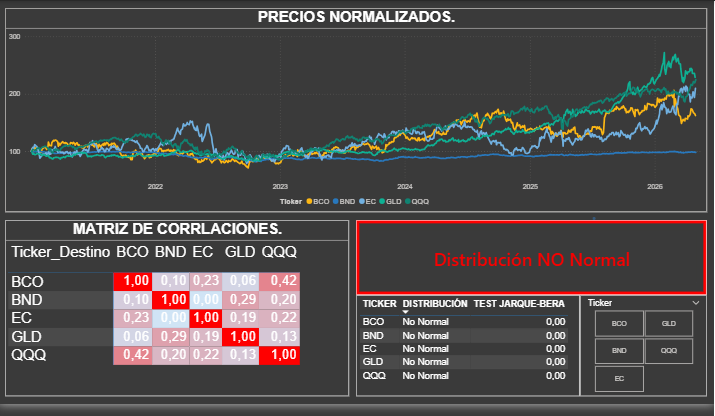

What the dashboard file says about the page in this screenshot:
{"tool":"powerbi","page":{"name":"CONTROL DE CALIDAD DE DATOS.","canvas":[1280,720],"ordinal":0},"visuals":[{"type":"lineChart","title":"PRECIOS NORMALIZADOS.","fields":{"Category":["Fact_Precios.Date"],"Y":["DAX_MEDIDAS.Precio_Indexado"],"Series":["Dim_Activos.Ticker"]},"box":[12.5,12.5,1255,364.7],"z":0},{"type":"tableEx","fields":{"Values":["Tab_Diagnostico_JB.Ticker","Tab_Diagnostico_JB.Distribucion","Sum(Tab_Diagnostico_JB.JB_PValue)"]},"box":[640,525.6,400.4,180.6],"z":1000,"group":"g1"},{"type":"cardVisual","fields":{"Data":["DAX_MEDIDAS.Estado_Normalidad"]},"box":[640,391.5,627.5,134.1],"z":2000,"group":"g1"},{"type":"pivotTable","title":"MATRIZ DE CORRLACIONES.","fields":{"Rows":["Matriz_Correlacion_Larga.Ticker_Destino"],"Columns":["Matriz_Correlacion_Larga.Ticker_Origen"],"Values":["Sum(Matriz_Correlacion_Larga.Correlacion)"]},"box":[12.5,391.5,615,314.6],"z":3000},{"type":"slicer","fields":{"Values":["Tab_Asignacion_Optima.Ticker"]},"box":[1040,526,227,181],"z":4000,"group":"g1"},{"type":"group","id":"g1","title":"Grupo 1","box":[640,391.5,627.5,315.5],"z":4001}]}

Visuals, with their boxes on the page's 1280x720 design canvas (x1, y1, x2, y2). These are canvas units, not pixel positions in the 715x416 screenshot, which may show the page scaled, cropped or inside an application window:
"PRECIOS NORMALIZADOS." lineChart: 12,12,1268,377
tableEx - Tab_Diagnostico_JB.Ticker x Tab_Diagnostico_JB.Distribucion: 640,526,1040,706
cardVisual - DAX_MEDIDAS.Estado_Normalidad: 640,392,1268,526
"MATRIZ DE CORRLACIONES." pivotTable: 12,392,628,706
slicer - Tab_Asignacion_Optima.Ticker: 1040,526,1267,707
"Grupo 1" group: 640,392,1268,707
